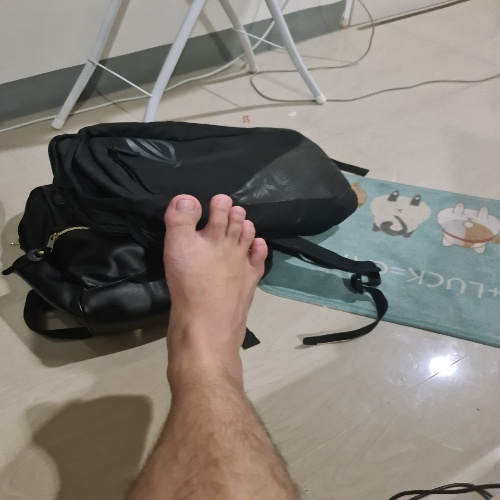3: (165, 191, 201, 238)
Top_Foot: (165, 194, 269, 406)
